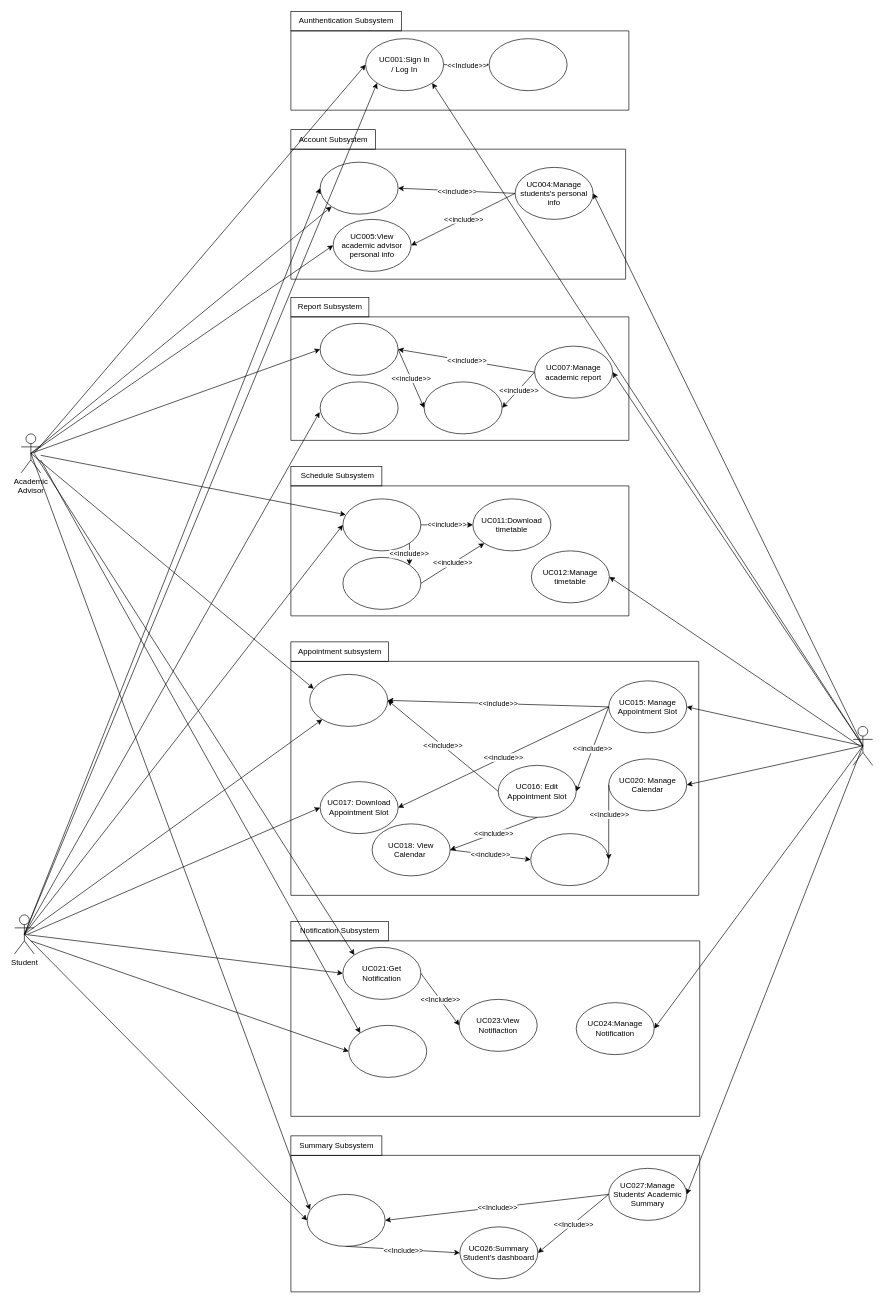
Image size: 884x1303. Some labels were removed from this diagram. The shapes that lost their labels are listed below. From the top down, each one's box as (x1, y1, x2, y2) in pixels, then its label:
(488, 38, 567, 91): UC002:Password
(319, 162, 398, 214): UC003:View students's personal info
(319, 323, 398, 375): UC006:View academic report
(319, 381, 398, 434): UC009:File complaint academic report
(423, 381, 502, 434): UC008:Download academic report
(342, 498, 421, 551): UC010:View timetable
(342, 557, 421, 609): UC013:Edit timetable
(309, 674, 388, 726): UC014: View Appointment Slot
(852, 726, 873, 765): Staff
(530, 833, 609, 886): UC019: Edit Calendar
(348, 1025, 427, 1077): UC022:Edit Notification Setting
(306, 1194, 385, 1246): UC025:View student's academic dashboard
